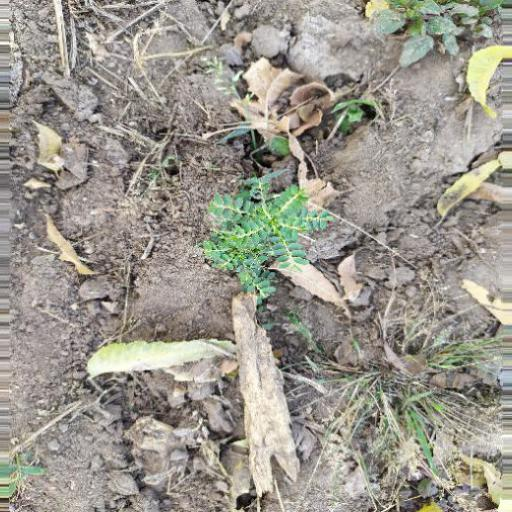weed: (203, 160, 354, 305)
